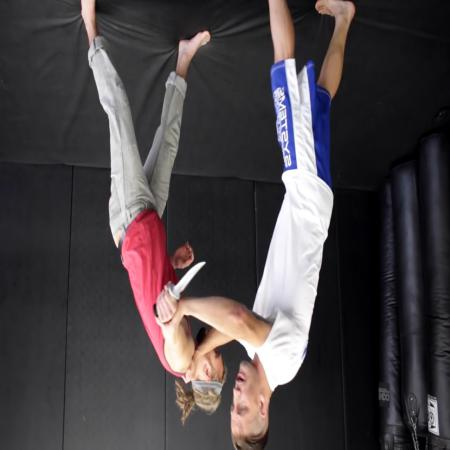long weapon: (149, 255, 209, 326)
